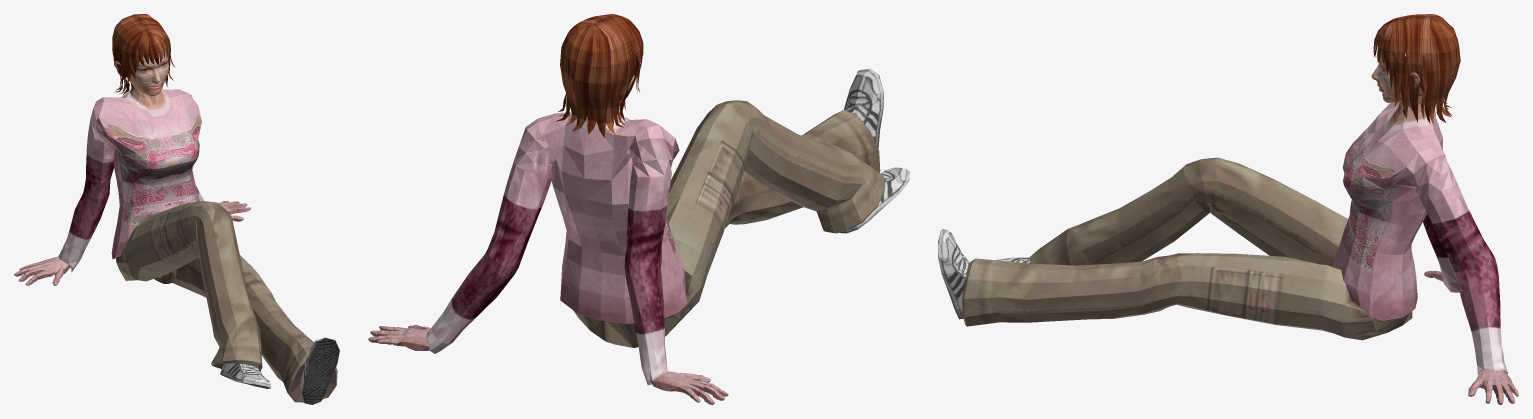
Rendered from sweethome3d-reallusion-sitting-female-15.glb.
The picture shows the model from 3 angles, left to right: view 1: azimuth 30°, elevation 25°; view 2: azimuth 150°, elevation 25°; view 3: azimuth 270°, elevation 25°; orthographic projection. The views are drawn at different scales.
Visible parts, largest first — view 1: obj1221polySurface1161; view 2: obj1221polySurface1161; view 3: obj1221polySurface1161.
Boxes of the visible parts, box(x1,y1,x2,y2) form: obj1221polySurface1161: box(14, 14, 339, 404); obj1221polySurface1161: box(368, 14, 909, 404); obj1221polySurface1161: box(938, 14, 1518, 404).
Size of the model in its own units: 81.28 by 78.51 by 134.
Materials: 3 (3 with a texture image).
